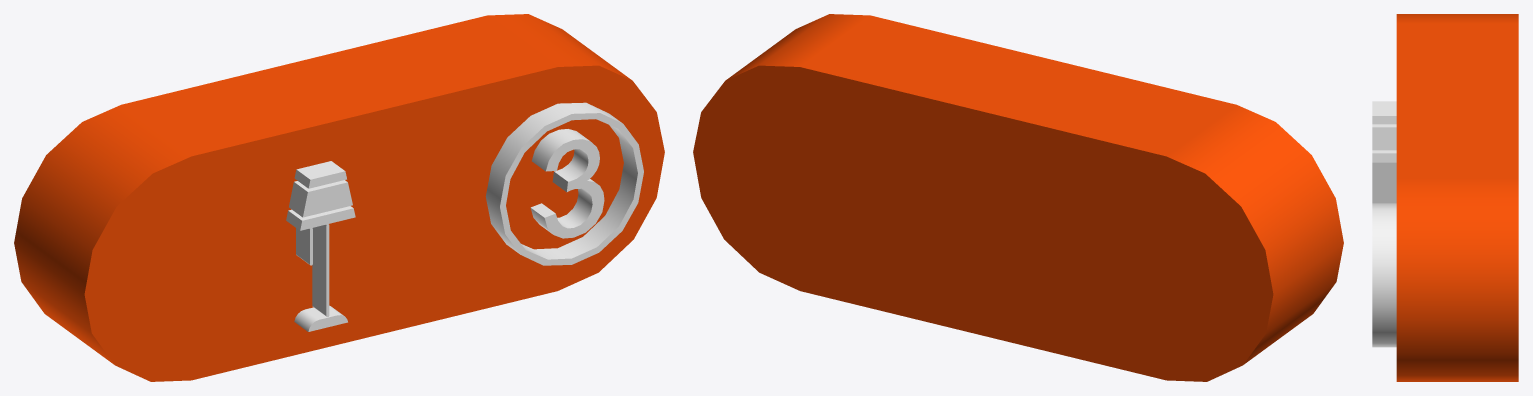
File: Lamp_3.fbx
The picture shows the model from 3 angles, left to right: view 1: azimuth 30°, elevation 25°; view 2: azimuth 150°, elevation 25°; view 3: azimuth 270°, elevation 25°; orthographic projection. The views are drawn at different scales.
Parts seen in each view (by area): view 1: Orange, Object_1, Object_4, Object_9, Object_7, Object_10, Object_8, Object_5, Object_6; view 2: Orange; view 3: Orange, Object_1, Object_7, Object_9, Object_10, Object_8.
Part boxes in pixels (x1=…): Orange: x1=14, y1=14, x2=664, y2=381; Object_1: x1=485, y1=102, x2=643, y2=265; Object_4: x1=530, y1=129, x2=604, y2=238; Object_9: x1=289, y1=180, x2=352, y2=217; Object_7: x1=312, y1=224, x2=329, y2=316; Object_10: x1=294, y1=161, x2=346, y2=188; Object_8: x1=286, y1=206, x2=355, y2=230; Object_5: x1=294, y1=305, x2=347, y2=331; Object_6: x1=296, y1=228, x2=312, y2=265; Orange: x1=693, y1=14, x2=1343, y2=381; Orange: x1=1396, y1=14, x2=1518, y2=381; Object_1: x1=1372, y1=203, x2=1396, y2=347; Object_7: x1=1372, y1=162, x2=1396, y2=203; Object_9: x1=1372, y1=124, x2=1396, y2=150; Object_10: x1=1372, y1=101, x2=1396, y2=124; Object_8: x1=1372, y1=150, x2=1396, y2=162.
Bounding box in the file's own units: 4.75 × 1.2 × 1.75.
